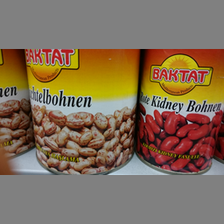beans: (25, 48, 139, 174), (142, 49, 223, 176)
